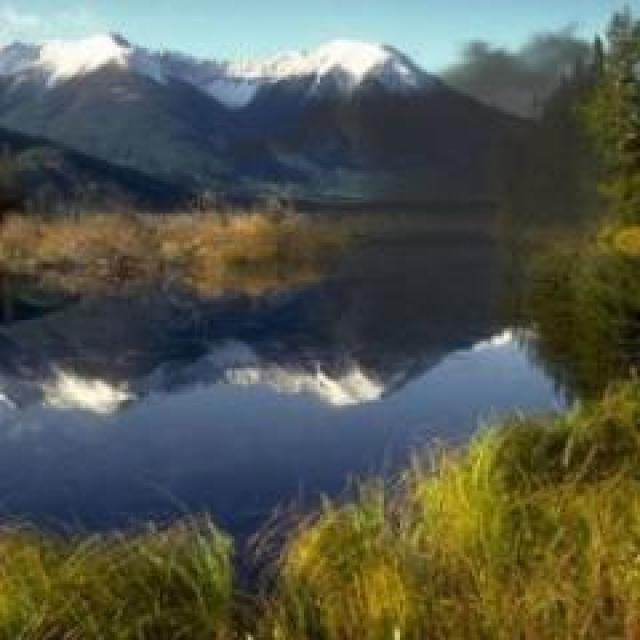Smoke: (207, 27, 634, 380)
